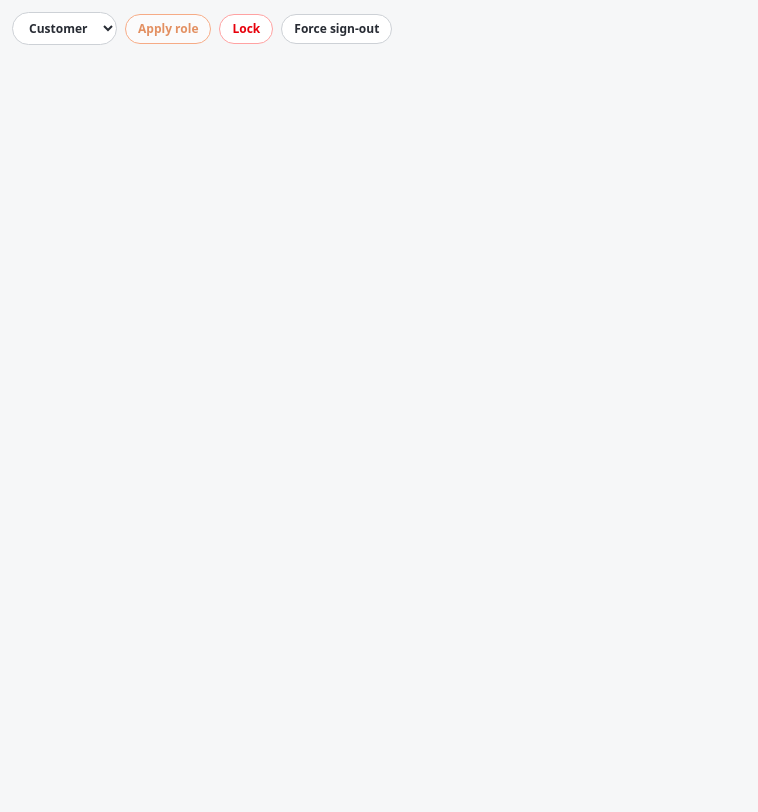
AdminUserActions › PATCHes the staged role on apply and toasts on success
Step 1. Select "Provider" in the dropdown named "Role" → x=64, y=28, box [12,12,117,45]
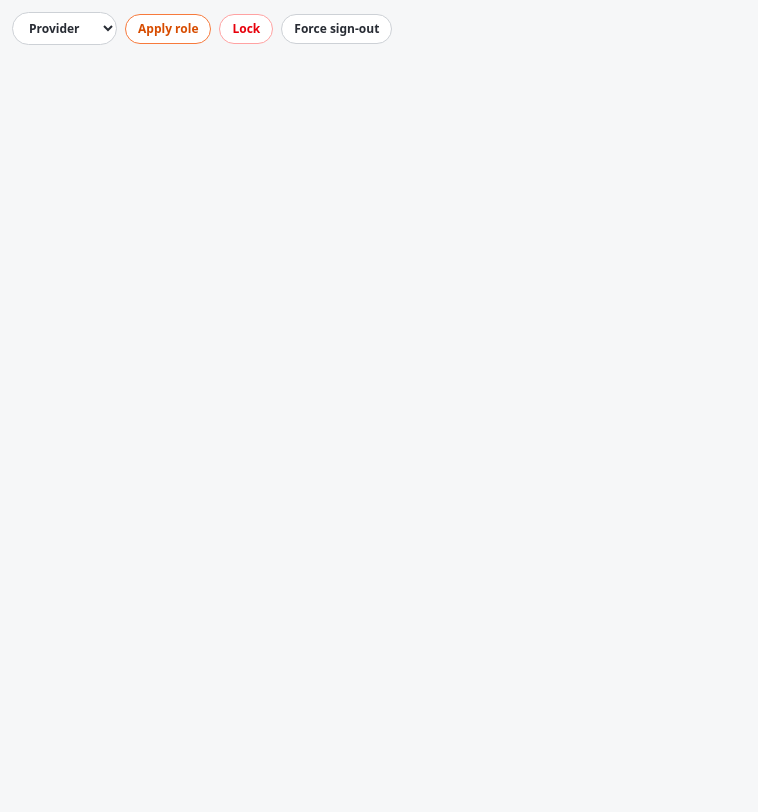
Step 2. Click the button "Apply role" → x=168, y=28, box [125,14,212,44]
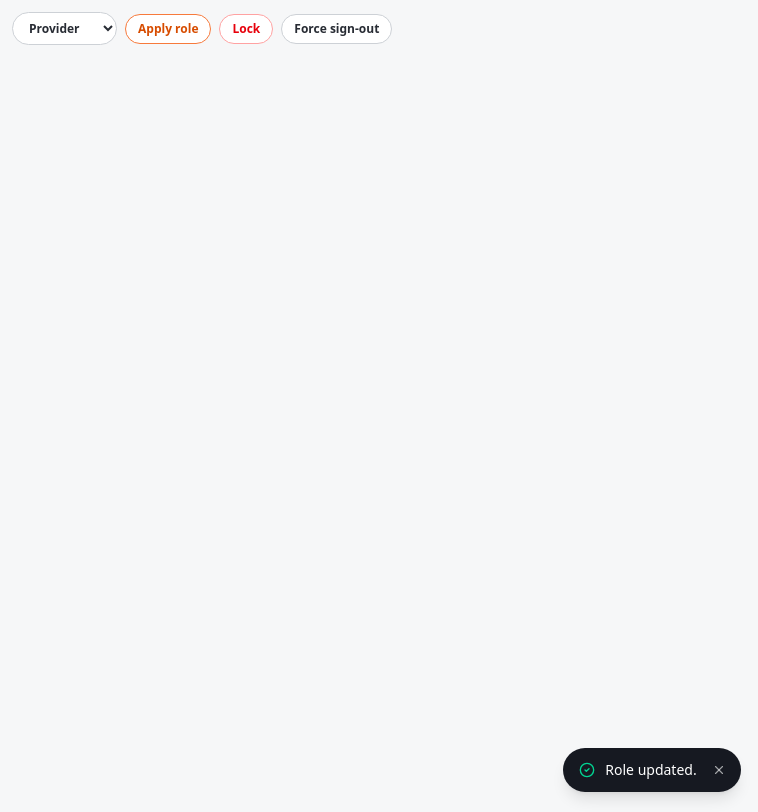
Expected: the message reads "Role updated.", [605,760,697,779]
